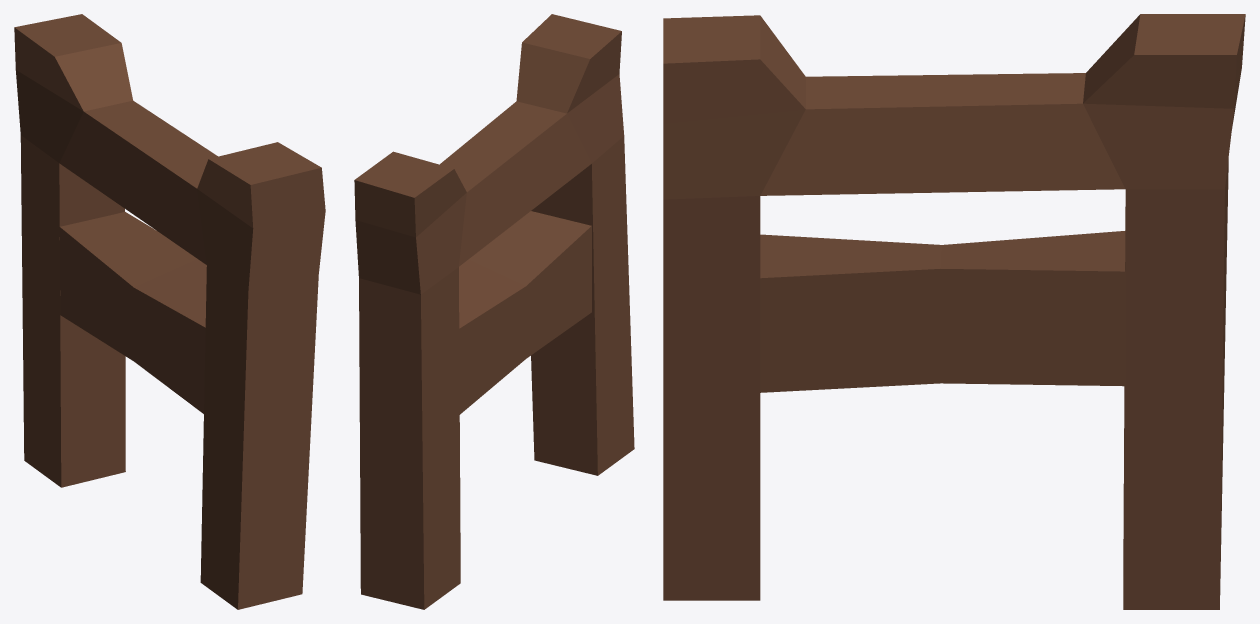
The model's file is fence.fbx.
3 views of the same model, side by side, from view 1: azimuth 30°, elevation 25°; view 2: azimuth 150°, elevation 25°; view 3: azimuth 270°, elevation 25° (orthographic). The views are drawn at different scales.
Visible parts, largest first — view 1: Cube; view 2: Cube; view 3: Cube.
Part boxes in pixels (<box>): Cube: <box>14,14,325,609</box>; Cube: <box>354,14,634,609</box>; Cube: <box>663,14,1245,609</box>.
Bounding box in the file's own units: 53.42 × 250 × 236.
